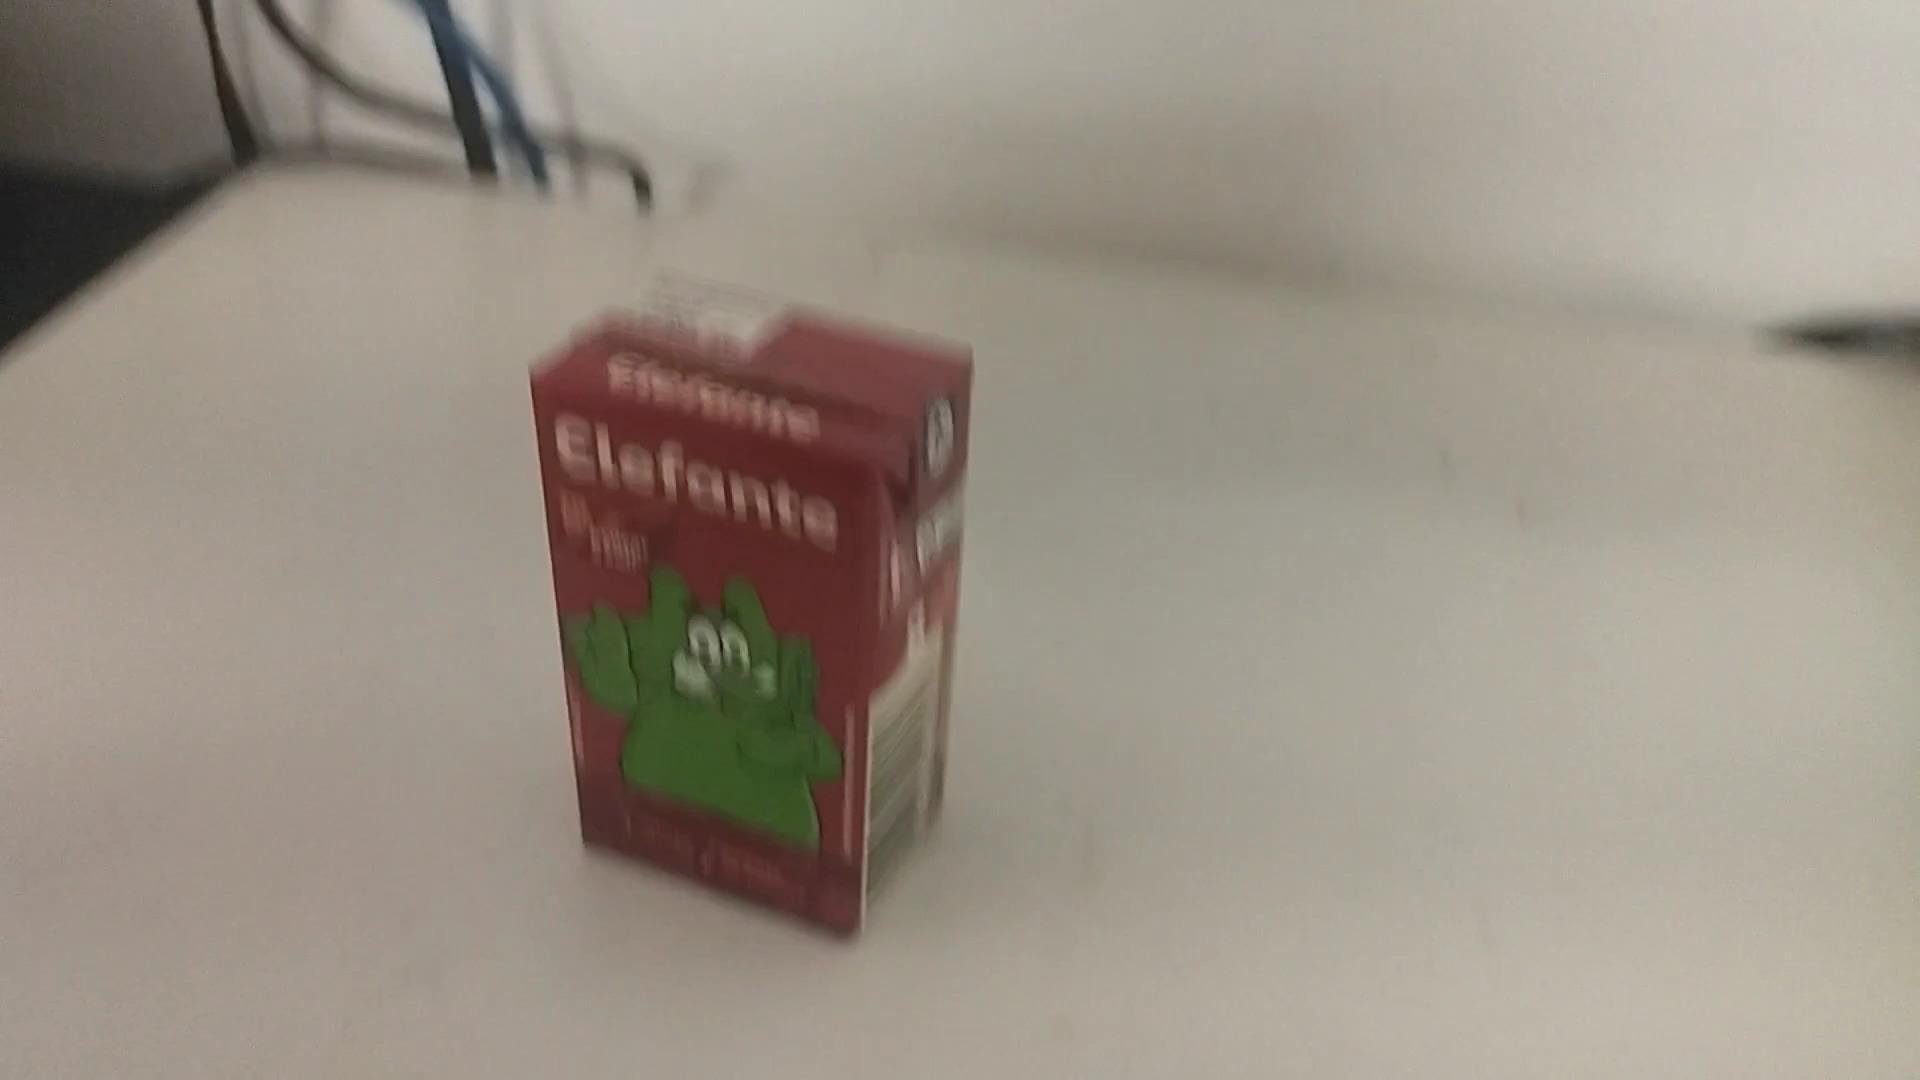tomate: (513, 257, 985, 939)
